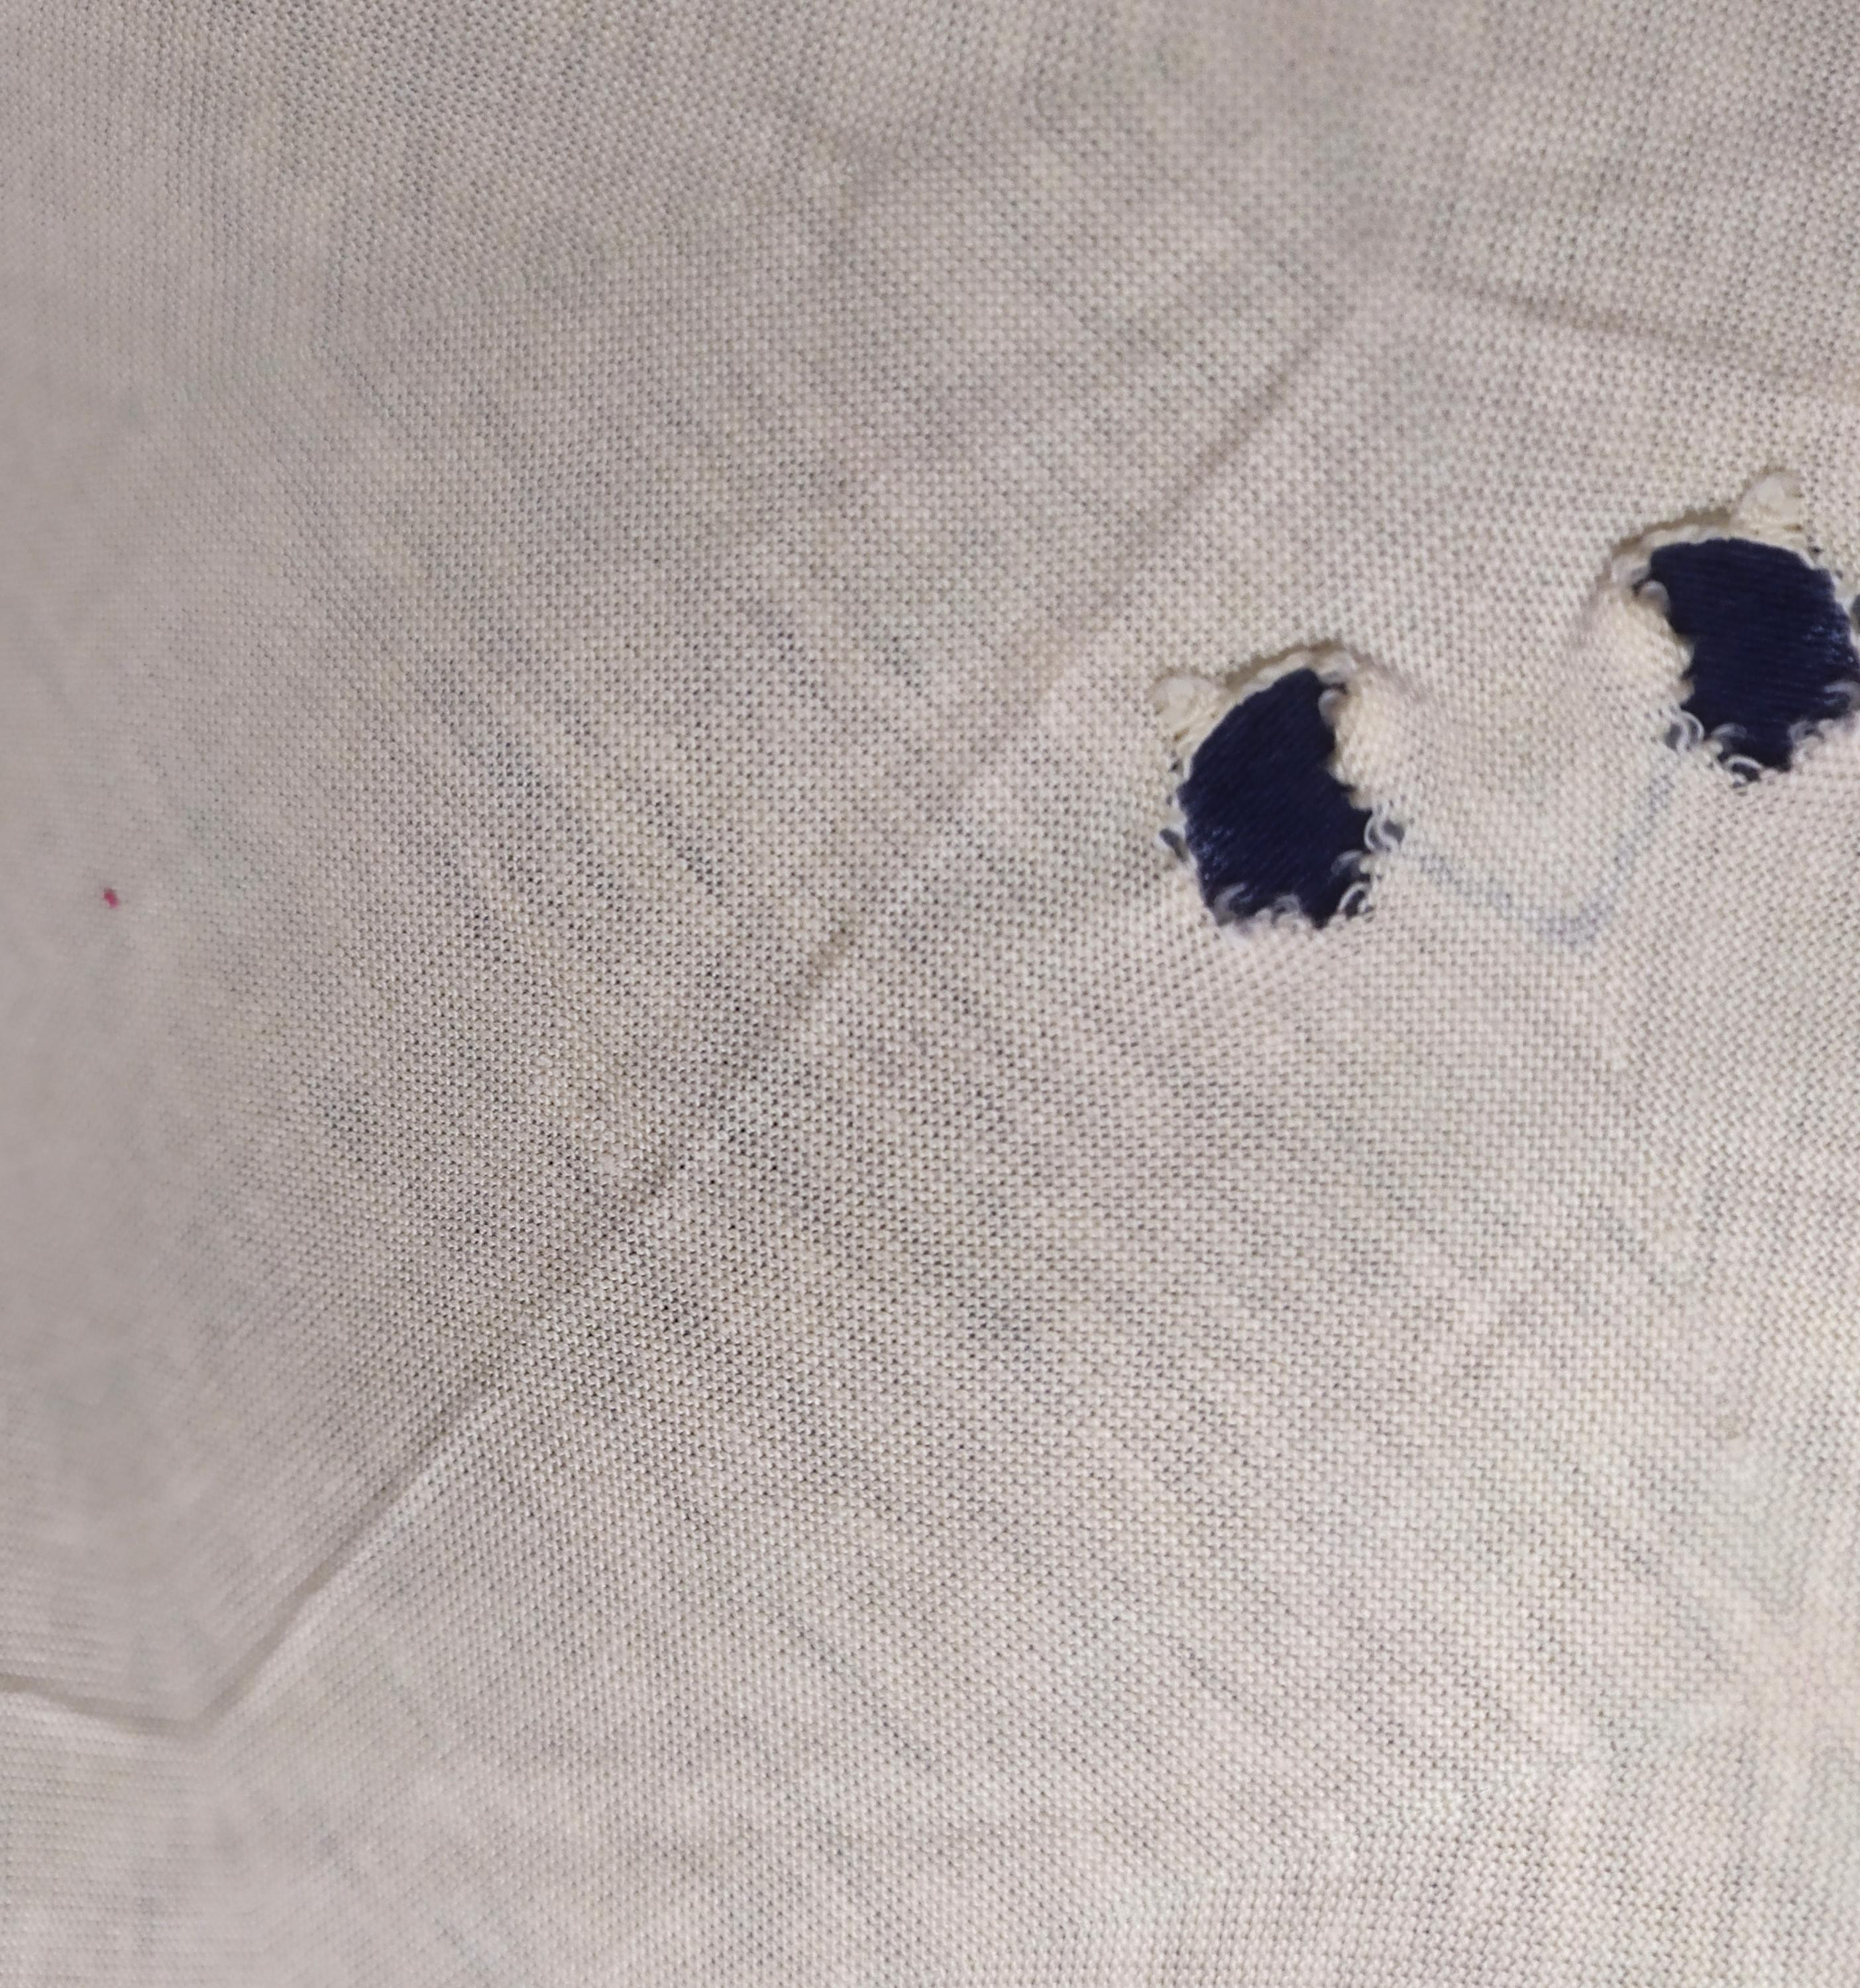hole: (1619, 477, 1860, 841), (1147, 633, 1411, 942)
